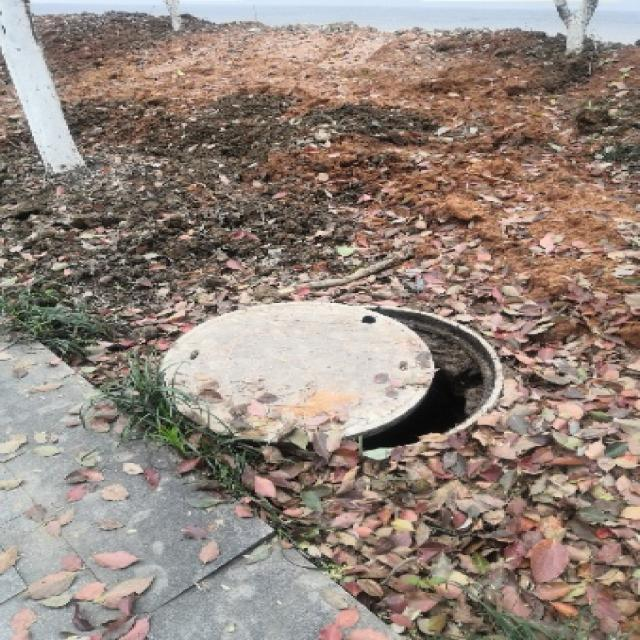Faulty: (133, 297, 532, 467)
